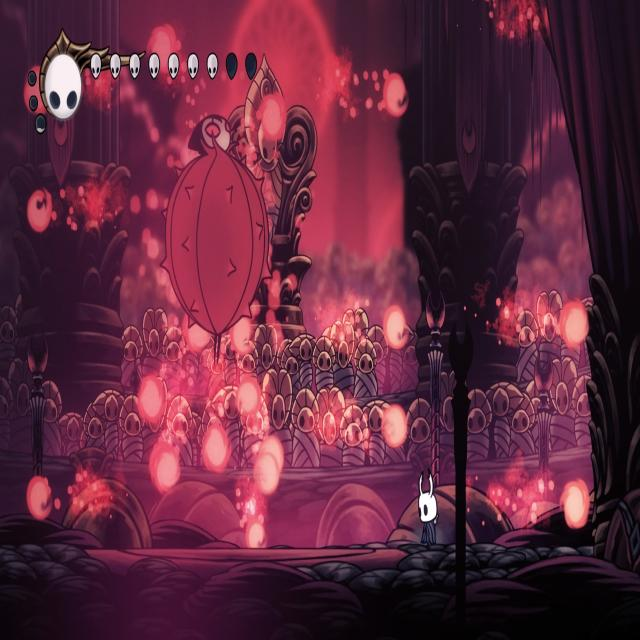Player: (417, 468, 442, 550)
Pufferfish: (158, 110, 276, 365)
Tiny Fireballs: (150, 444, 181, 494), (136, 376, 165, 428), (254, 448, 284, 494), (202, 425, 230, 474), (261, 94, 288, 144), (561, 302, 588, 349), (562, 482, 588, 530), (150, 22, 174, 72), (28, 476, 53, 520), (27, 188, 52, 232), (382, 405, 407, 448), (383, 74, 407, 118), (384, 306, 408, 348), (237, 377, 260, 417), (232, 315, 255, 355), (184, 312, 207, 352), (246, 519, 266, 549)
